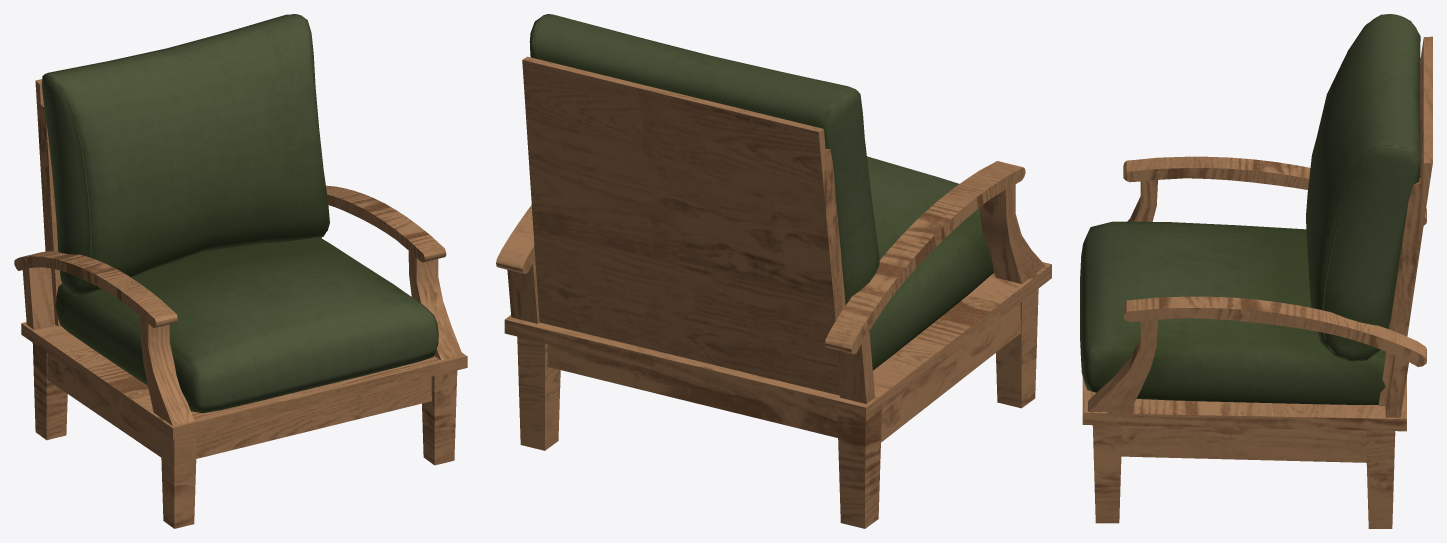
The model's file is chair.glb.
The picture shows the model from 3 angles, left to right: view 1: azimuth 30°, elevation 25°; view 2: azimuth 150°, elevation 25°; view 3: azimuth 270°, elevation 25°; orthographic projection. The views are drawn at different scales.
Visible parts, largest first — view 1: olive_chair; view 2: olive_chair; view 3: olive_chair.
Part boxes in pixels (box(x1,y1,x2,y2)): olive_chair: box(14, 14, 467, 528); olive_chair: box(496, 14, 1051, 528); olive_chair: box(1080, 14, 1432, 528).
Size of the model in its own units: 39.01 by 44.6 by 37.88.
Materials: 1 (1 with a texture image).
